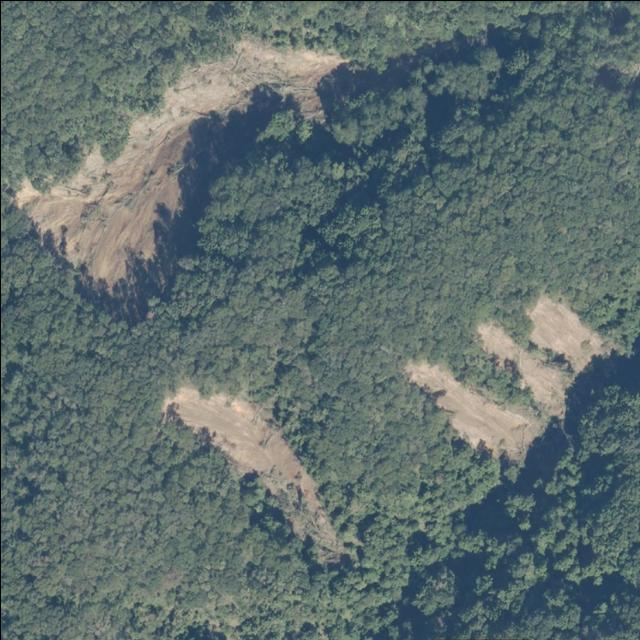landslide: (13, 38, 345, 319), (405, 295, 612, 463), (163, 386, 349, 562)
